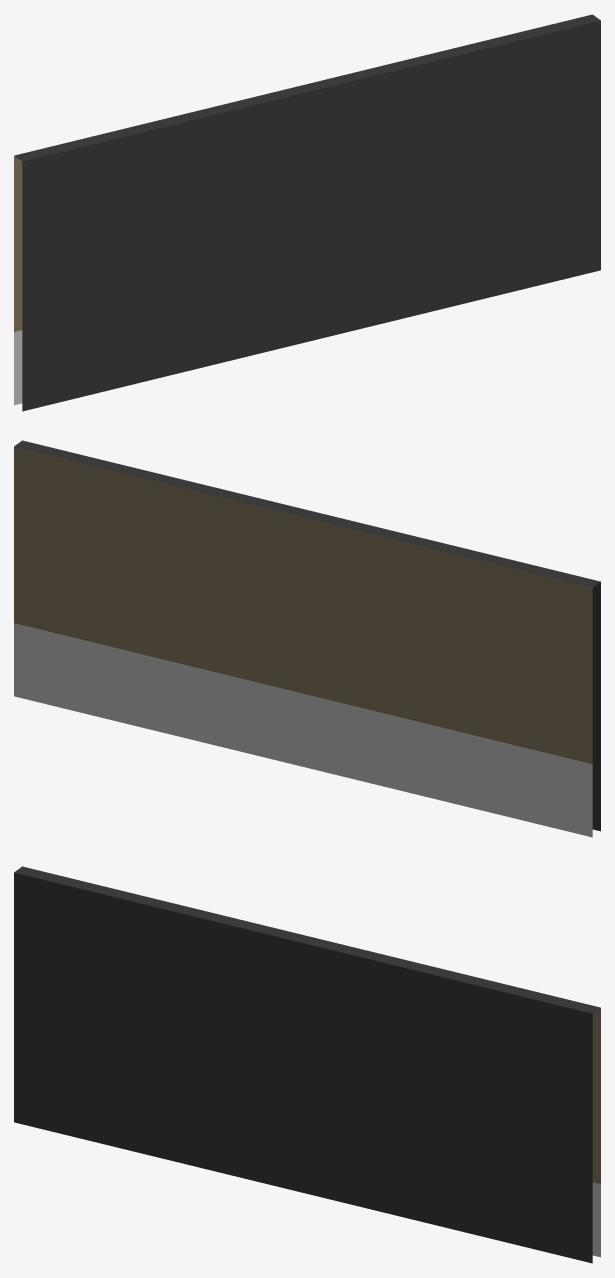
Rendered from SM_Wall_800.FBX.
3 views of the same model, one above another, from view 1: azimuth 30°, elevation 25°; view 2: azimuth 150°, elevation 25°; view 3: azimuth 330°, elevation 25° (orthographic).
Parts seen in each view (by area): view 1: SM_Wall_800; view 2: SM_Wall_800; view 3: SM_Wall_800.
Part boxes in pixels (left/top/right/bottom): SM_Wall_800: left=14, top=14, right=600, bottom=411; SM_Wall_800: left=14, top=440, right=600, bottom=837; SM_Wall_800: left=14, top=866, right=600, bottom=1263.
Size of the model in its own units: 800 by 20 by 330.
